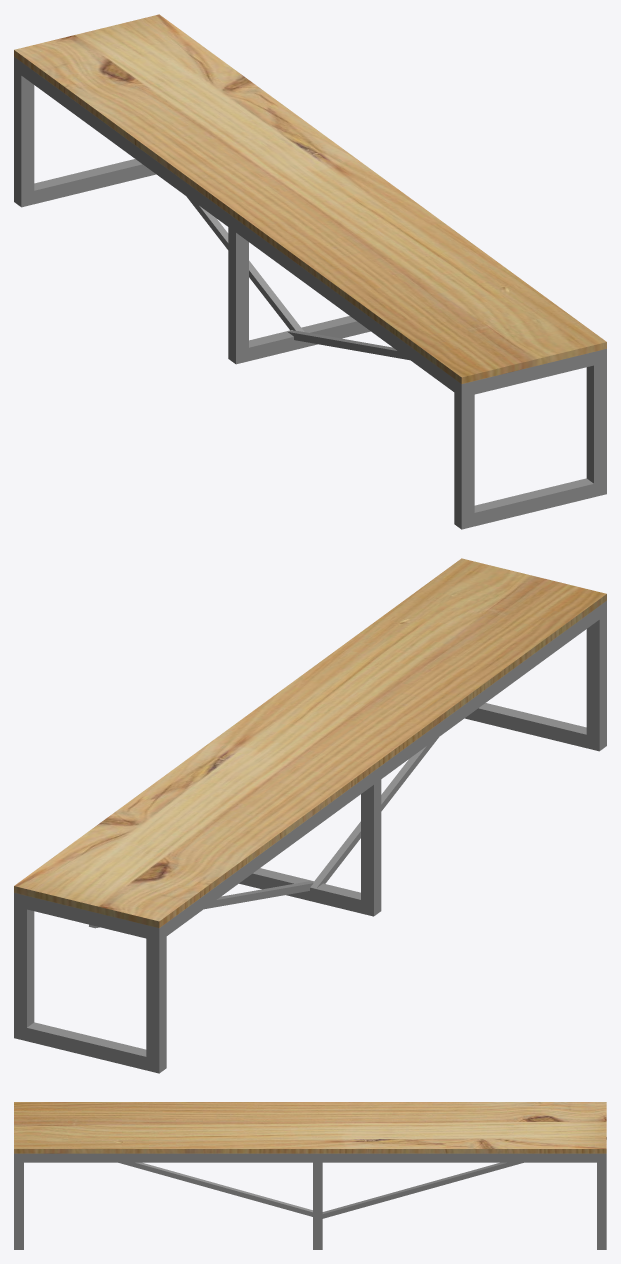
Rendered from banca.glb.
3 views of the same model, one above another, from view 1: azimuth 30°, elevation 25°; view 2: azimuth 150°, elevation 25°; view 3: azimuth 270°, elevation 25° (orthographic). The views are drawn at different scales.
Parts seen in each view (by area): view 1: 275, 221, 526, 496; view 2: 275, 221, 496, 526; view 3: 275, 221, 526, 496.
Boxes of the visible parts, x1,y1,x2,y2 form: 275: [14, 14, 606, 384]; 221: [14, 57, 606, 529]; 526: [186, 196, 304, 331]; 496: [288, 330, 409, 360]; 275: [14, 558, 606, 928]; 221: [14, 601, 606, 1073]; 496: [311, 737, 438, 888]; 526: [89, 881, 313, 928]; 275: [14, 1102, 606, 1153]; 221: [14, 1153, 606, 1249]; 526: [322, 1137, 606, 1218]; 496: [118, 1162, 312, 1216].
Bounding box in the file's own units: 0.45 × 0.45 × 2.4.
Materials: 64 (6 with a texture image).
